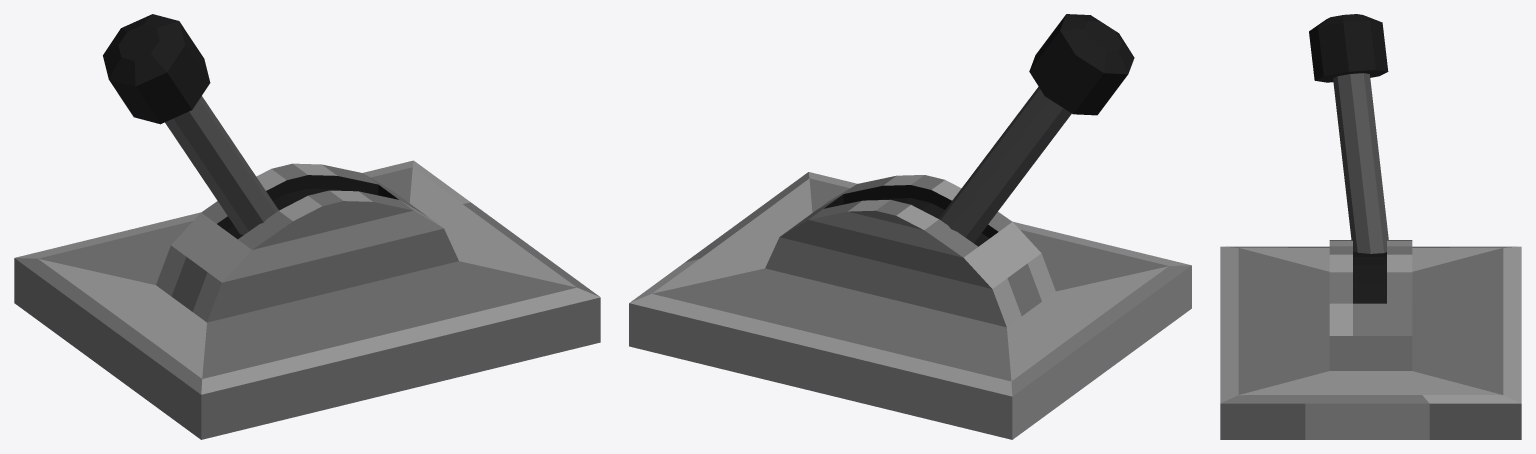
File: Lever.glb
3 views of the same model, side by side, from view 1: azimuth 30°, elevation 25°; view 2: azimuth 150°, elevation 25°; view 3: azimuth 270°, elevation 25° (orthographic). The views are drawn at different scales.
Visible parts, largest first — view 1: LeverBottom, LeverTop; view 2: LeverBottom, LeverTop; view 3: LeverBottom, LeverTop.
Part boxes in pixels (x1,y1,x2,y2): LeverBottom: (14,160,600,439); LeverTop: (103,14,278,234); LeverBottom: (629,172,1191,439); LeverTop: (939,14,1134,243); LeverBottom: (1220,240,1521,439); LeverTop: (1309,14,1388,253).
Size of the model in its own units: 0.4691 by 0.38 by 0.3683.
Materials: 1 (1 with a texture image).
